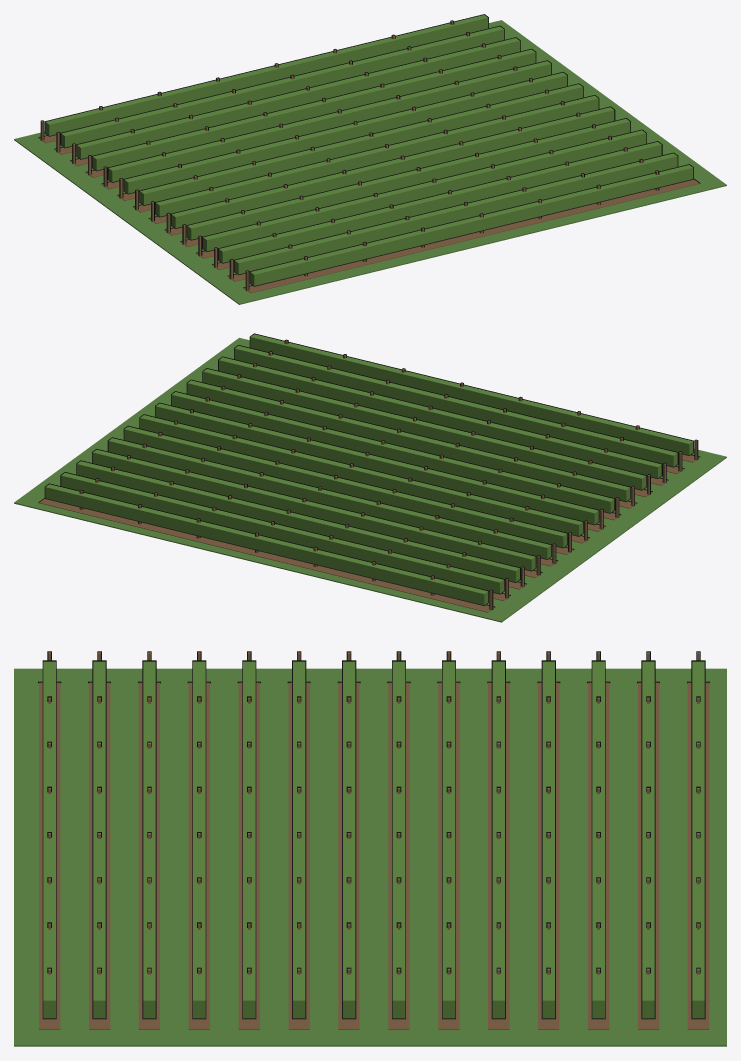
Rendered from Kir_alan_bag_1.fbx.
The picture shows the model from 3 angles, top to bottom: view 1: azimuth 30°, elevation 25°; view 2: azimuth 150°, elevation 25°; view 3: azimuth 270°, elevation 25°; orthographic projection. The views are drawn at different scales.
Parts seen in each view (by area): view 1: Kir_alan_bag_1; view 2: Kir_alan_bag_1; view 3: Kir_alan_bag_1.
Boxes of the visible parts, bbox=[...] form: Kir_alan_bag_1: bbox=[14, 14, 726, 304]; Kir_alan_bag_1: bbox=[14, 333, 726, 622]; Kir_alan_bag_1: bbox=[14, 651, 726, 1046].
Bounding box in the file's own units: 50 × 2.05 × 40.
